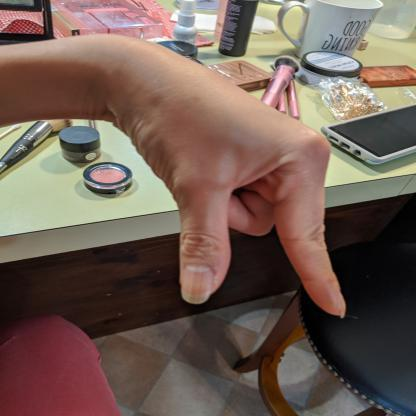Q: (103, 31, 355, 322)
